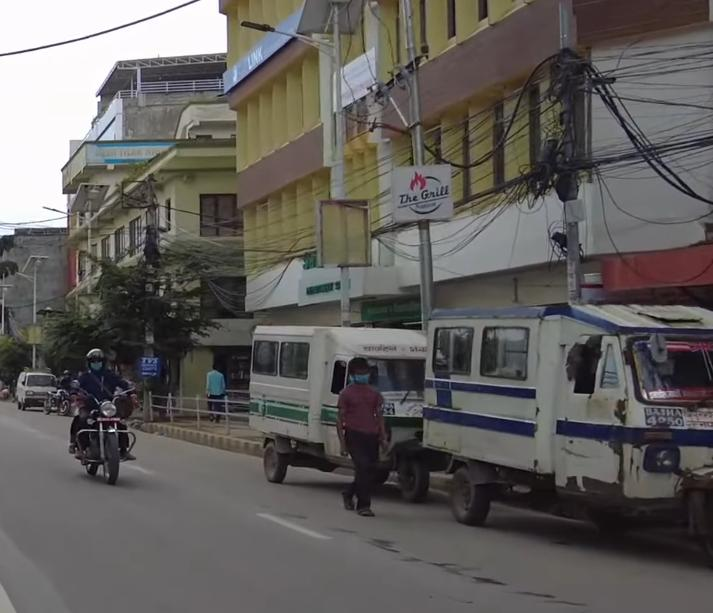bike: (72, 386, 145, 489)
tempo: (415, 304, 713, 551), (248, 319, 447, 505)
van: (15, 368, 62, 411)
